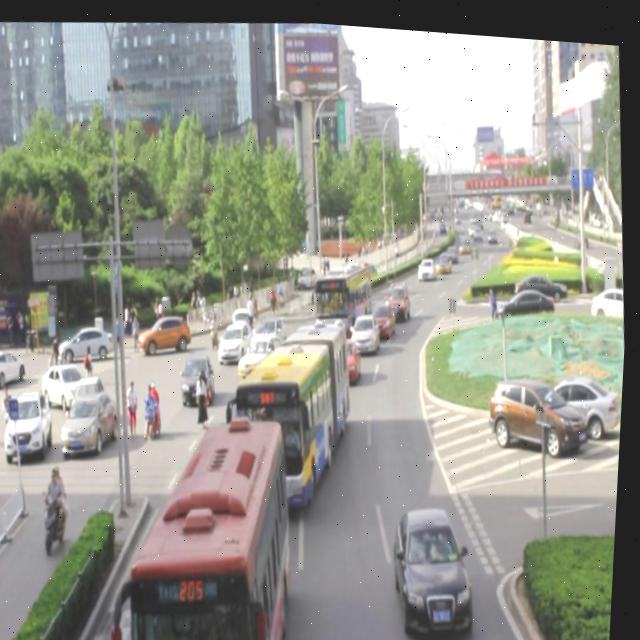car: (392, 495, 481, 628), (224, 376, 278, 446), (240, 326, 293, 376), (180, 344, 219, 399), (248, 304, 291, 353), (328, 327, 365, 380), (217, 309, 256, 358), (350, 305, 384, 351), (369, 294, 399, 334), (384, 275, 413, 314)
van: (124, 408, 304, 640), (224, 310, 359, 503), (313, 255, 377, 326)
